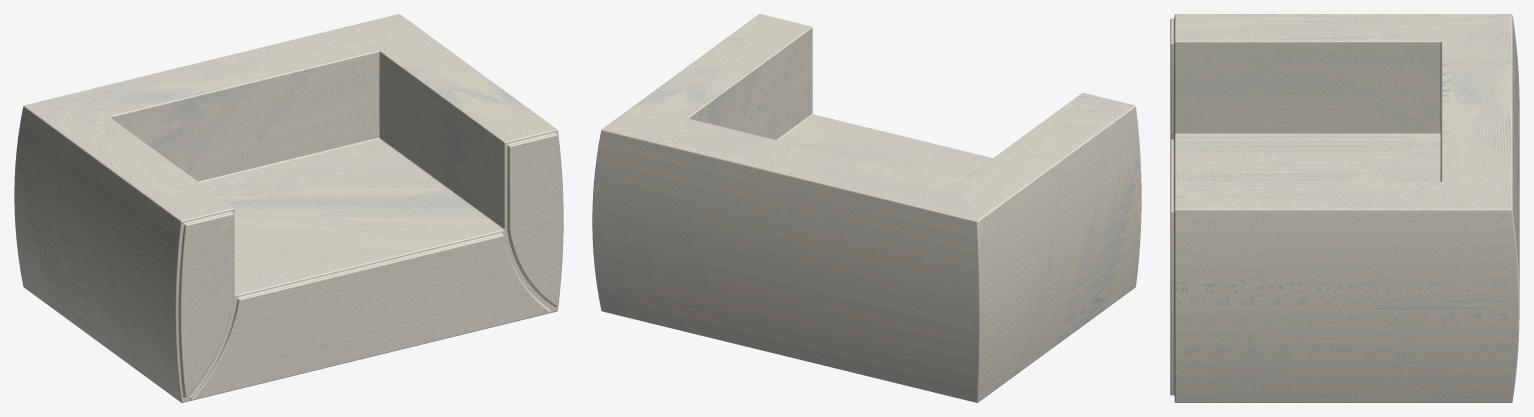
Rendered from chair_frame.dae.
3 views of the same model, side by side, from view 1: azimuth 30°, elevation 25°; view 2: azimuth 150°, elevation 25°; view 3: azimuth 270°, elevation 25° (orthographic). The views are drawn at different scales.
Parts seen in each view (by area): view 1: group_14, group_14_001, group_14_002, group_14_003; view 2: group_14; view 3: group_14, group_14_003, group_14_002.
Boxes of the visible parts, x1=… form: group_14: x1=14, y1=14, x2=563, y2=402; group_14_001: x1=189, y1=232, x2=550, y2=399; group_14_002: x1=177, y1=211, x2=233, y2=397; group_14_003: x1=506, y1=132, x2=562, y2=307; group_14: x1=592, y1=14, x2=1141, y2=402; group_14: x1=1174, y1=14, x2=1519, y2=402; group_14_003: x1=1170, y1=186, x2=1174, y2=395; group_14_002: x1=1170, y1=18, x2=1174, y2=139.
Bounding box in the file's own units: 1.34 × 0.98 × 0.631.
